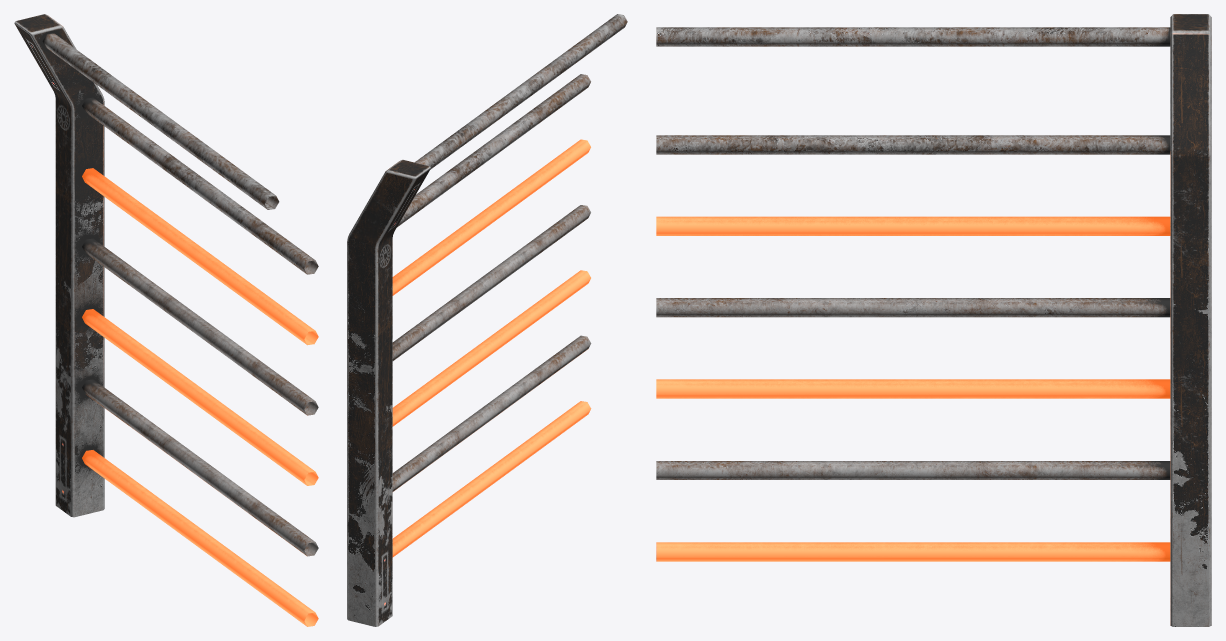
Rendered from SM_MetalFenceNeon1.fbx.
The picture shows the model from 3 angles, left to right: view 1: azimuth 30°, elevation 25°; view 2: azimuth 150°, elevation 25°; view 3: azimuth 270°, elevation 25°; orthographic projection. The views are drawn at different scales.
Parts seen in each view (by area): view 1: SM_MetalFenceNeon1_LOD0; view 2: SM_MetalFenceNeon1_LOD0; view 3: SM_MetalFenceNeon1_LOD0.
Boxes of the visible parts, left/top/right/bottom form: SM_MetalFenceNeon1_LOD0: left=14, top=14, right=318, bottom=626; SM_MetalFenceNeon1_LOD0: left=347, top=14, right=627, bottom=626; SM_MetalFenceNeon1_LOD0: left=656, top=14, right=1211, bottom=626.
Size of the model in its own units: 62.38 by 346 by 393.
Materials: 1 (1 with a texture image).
